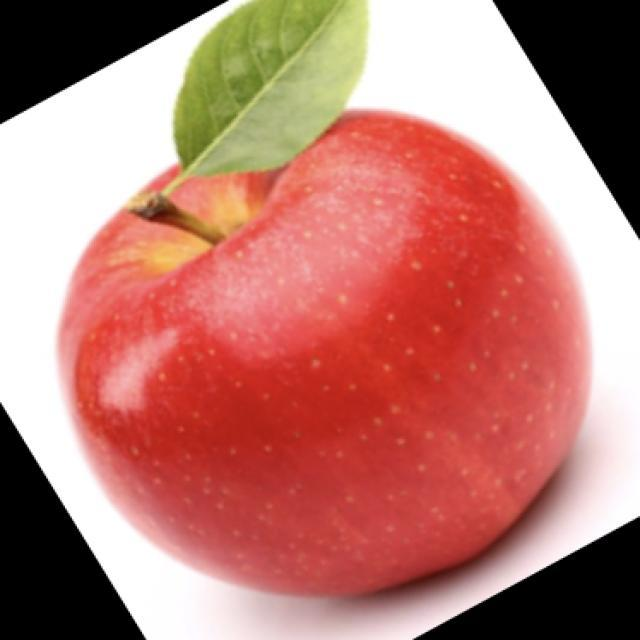Apple: (55, 107, 593, 599)
